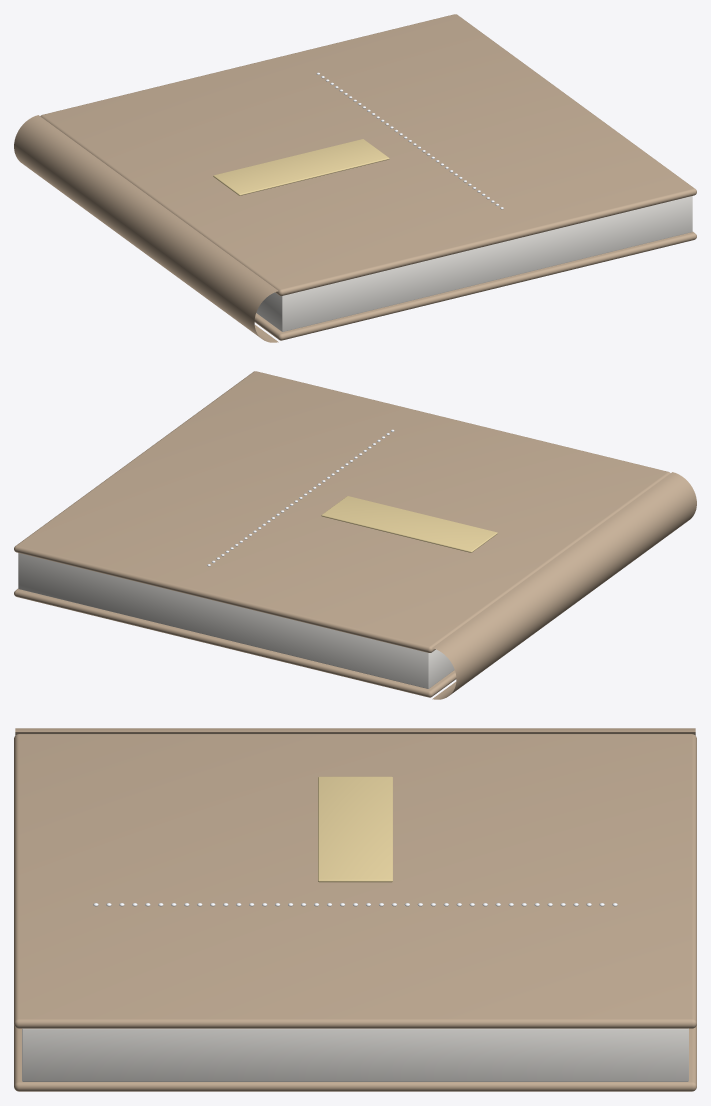
Rendered from swarovski-line--square.glb.
3 views of the same model, one above another, from view 1: azimuth 30°, elevation 25°; view 2: azimuth 150°, elevation 25°; view 3: azimuth 270°, elevation 25° (orthographic). The views are drawn at different scales.
Parts seen in each view (by area): view 1: CoverFront, Pages, Spine, Plate, CoverBack; view 2: CoverFront, Pages, Spine, Plate, CoverBack; view 3: CoverFront, Pages, Plate, CoverBack, Spine, Crystal.
Boxes of the visible parts, bbox=[...] form: CoverFront: bbox=[40, 14, 696, 295]; Pages: bbox=[256, 196, 692, 331]; Spine: bbox=[14, 115, 278, 342]; Plate: bbox=[213, 139, 389, 195]; CoverBack: bbox=[254, 232, 696, 340]; CoverFront: bbox=[14, 371, 670, 652]; Pages: bbox=[18, 553, 454, 688]; Spine: bbox=[432, 472, 696, 699]; Plate: bbox=[321, 496, 497, 552]; CoverBack: bbox=[14, 589, 456, 697]; CoverFront: bbox=[14, 734, 696, 1028]; Pages: bbox=[22, 1028, 688, 1081]; Plate: bbox=[318, 776, 392, 882]; CoverBack: bbox=[14, 1025, 696, 1091]; Spine: bbox=[15, 728, 695, 735]; Crystal: bbox=[93, 903, 617, 906].
Size of the model in its own units: 0.3179 by 0.0361 by 0.3.
